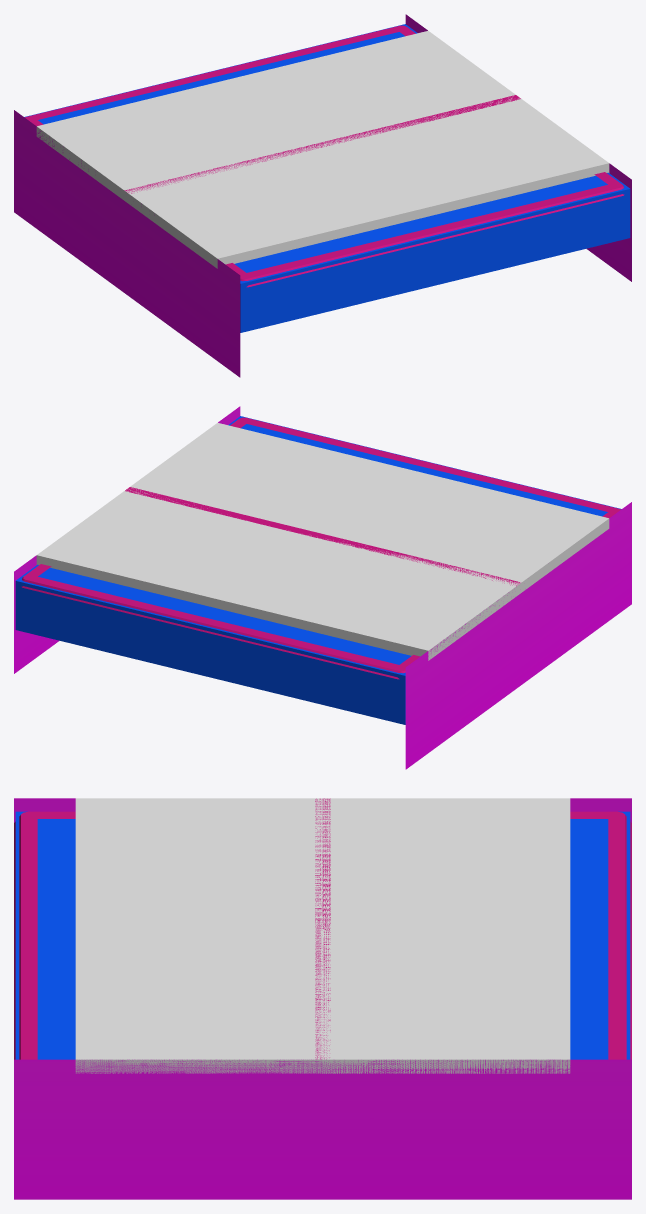
The model's file is Platform7.fbx.
3 views of the same model, one above another, from view 1: azimuth 30°, elevation 25°; view 2: azimuth 150°, elevation 25°; view 3: azimuth 270°, elevation 25° (orthographic). The views are drawn at different scales.
Parts seen in each view (by area): view 1: Square, Color, WALL, Stroke, TOP; view 2: Square, Color, WALL, Stroke, TOP; view 3: Square, WALL, Color, Stroke, TOP.
Boxes of the visible parts, <box> form: Square: <box>36,30,609,268</box>; Color: <box>24,24,630,332</box>; WALL: <box>14,14,631,377</box>; Stroke: <box>25,25,624,287</box>; TOP: <box>124,95,520,193</box>; Square: <box>36,422,609,660</box>; Color: <box>15,416,621,724</box>; WALL: <box>14,406,631,769</box>; Stroke: <box>21,417,620,679</box>; TOP: <box>125,487,520,586</box>; Square: <box>75,798,570,1073</box>; WALL: <box>14,798,631,1199</box>; Color: <box>15,811,630,1059</box>; Stroke: <box>14,811,631,1059</box>; TOP: <box>315,798,330,1059</box>.
Bounding box in the file's own units: 4 × 1 × 4.
4 materials, 1 textured.
